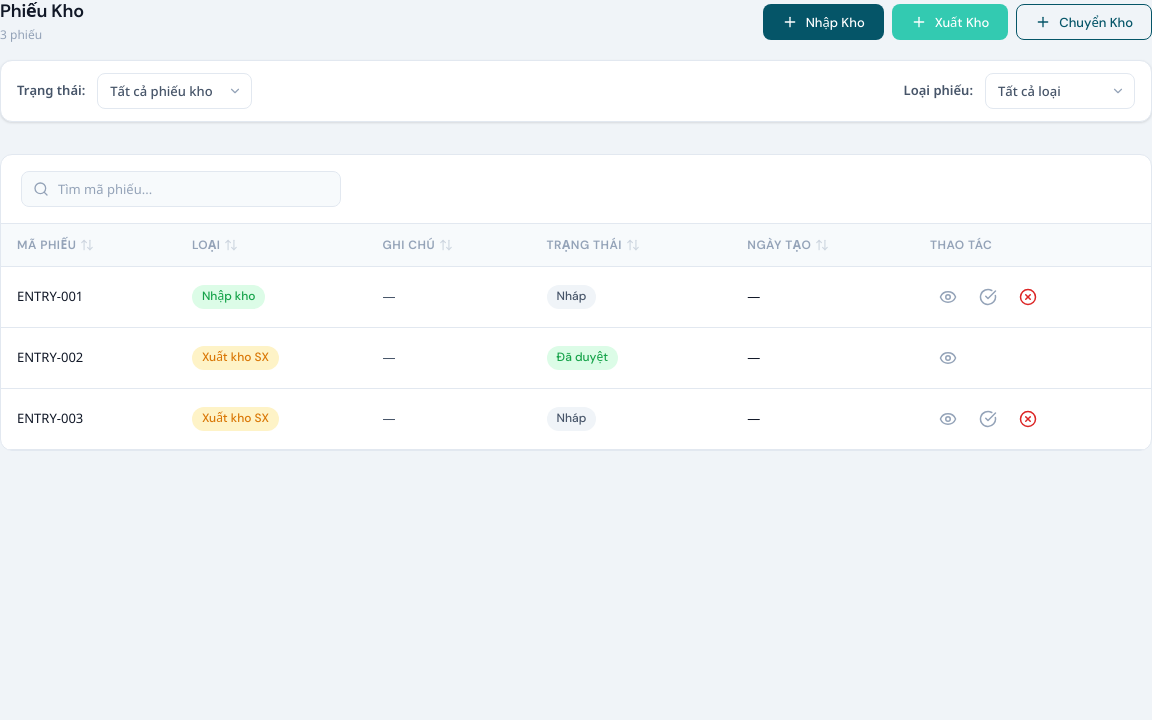
Scenario: StockEntryList › blocks approval of issue entry when warehouse has insufficient stock
Check: the text "ENTRY-003" is shown, box [1, 388, 176, 450]
Click the button named "Duyệt" in the row of "ENTRY-003". click: (988, 419)
box: [970, 401, 1006, 437]
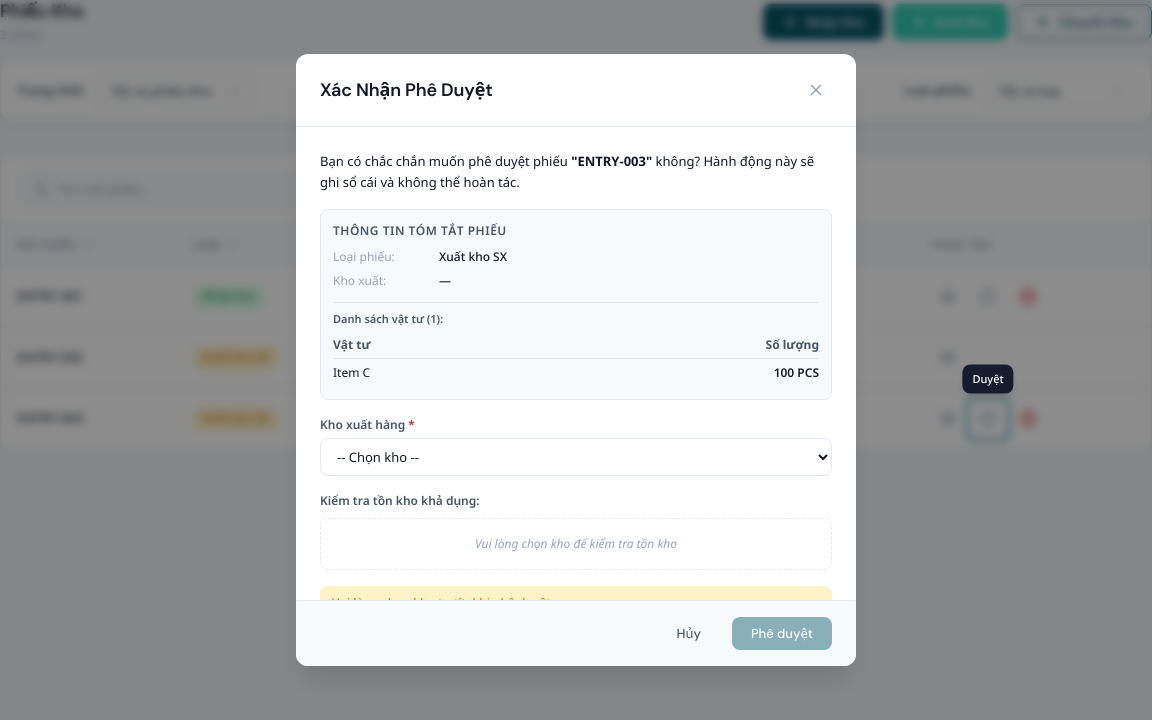
Check: the heading "Xác Nhận Phê Duyệt" is shown, box [320, 79, 493, 101]
Note: Select warehouse
Select "Kho 1" in the dropdown labelled "Kho xuất hàng *". click: (576, 457)
box: [320, 438, 832, 476]
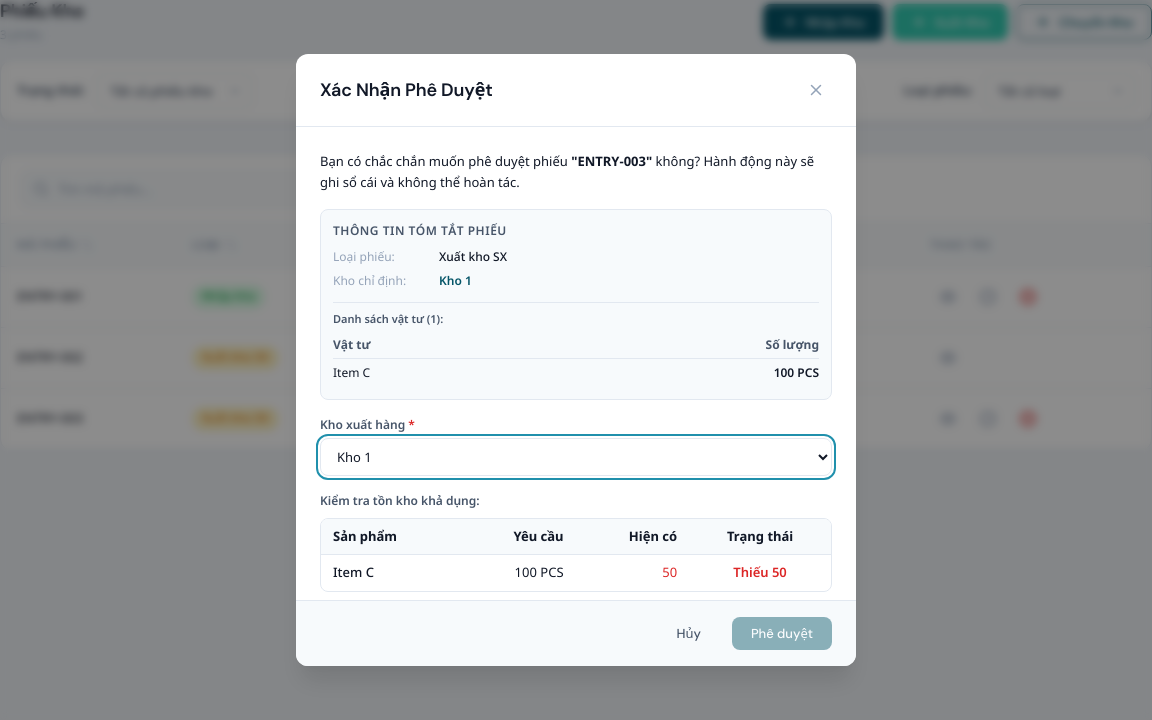
Check: the button "Phê duyệt" is disabled, box [732, 617, 832, 650]
Check: the text "Thiếu 50" is shown, box [733, 563, 787, 581]
